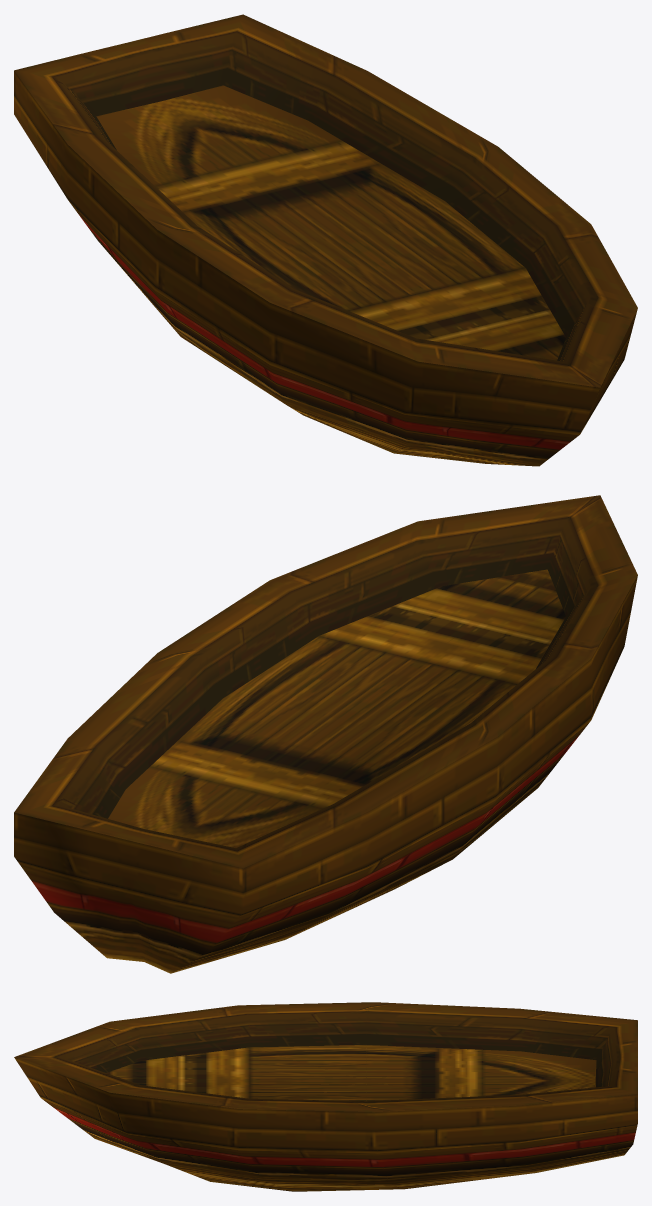
Rendered from INST_LT_BOAT.obj.
The picture shows the model from 3 angles, top to bottom: view 1: azimuth 30°, elevation 25°; view 2: azimuth 150°, elevation 25°; view 3: azimuth 270°, elevation 25°; orthographic projection. The views are drawn at different scales.
Parts seen in each view (by area): view 1: Boat; view 2: Boat; view 3: Boat.
Boxes of the visible parts, x1,y1,x2,y2 form: Boat: (14, 14, 637, 466); Boat: (14, 495, 637, 973); Boat: (14, 1002, 637, 1191).
Size of the model in its own units: 118 by 59.5 by 282.
